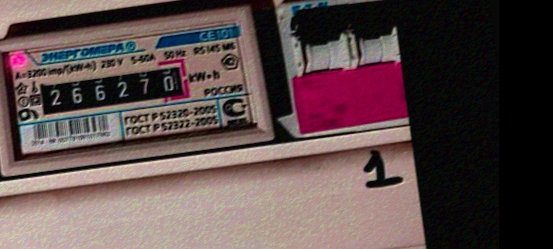0: (160, 73, 174, 92)
2: (46, 87, 61, 106), (114, 79, 128, 98)
6: (69, 85, 83, 104), (92, 83, 106, 102)
7: (137, 76, 151, 95)
screen: (27, 54, 195, 124)
